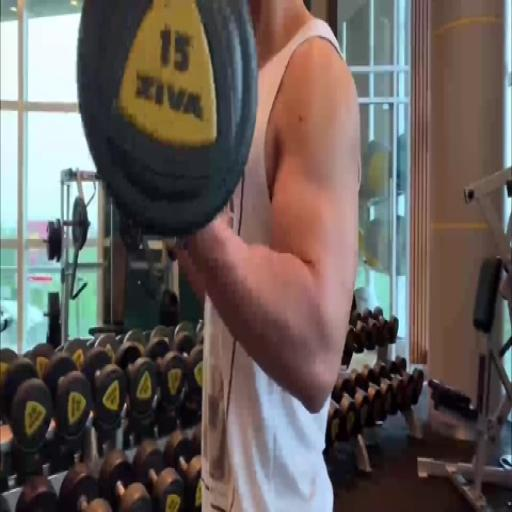exercise: (170, 0, 364, 511)
